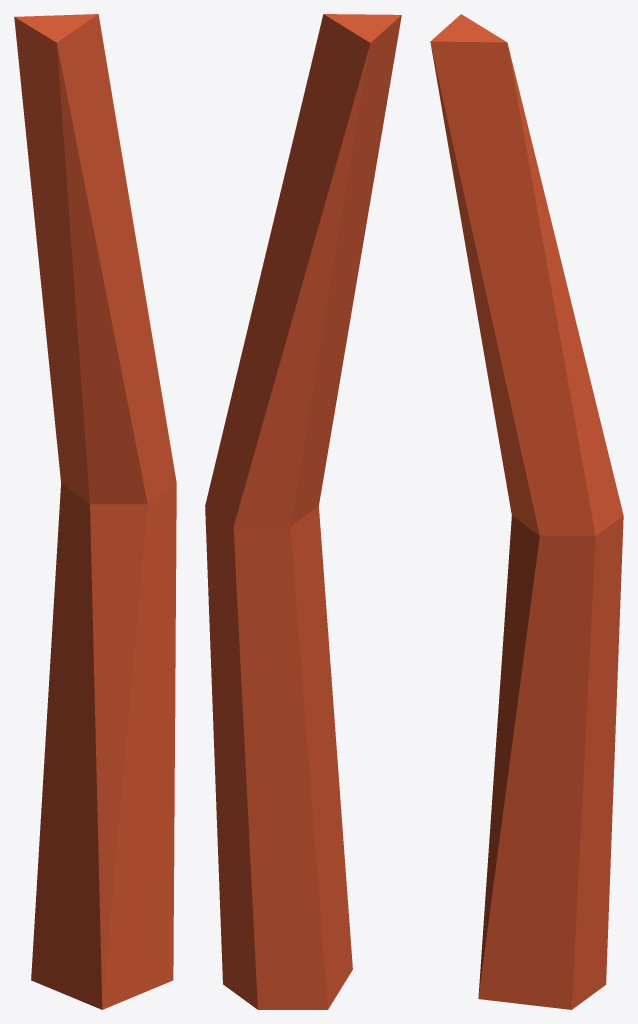
The model's file is Mahogany Cut.fbx.
3 renders of one model, left to right at view 1: azimuth 30°, elevation 25°; view 2: azimuth 150°, elevation 25°; view 3: azimuth 330°, elevation 25°, orthographic. The views are drawn at different scales.
Visible parts, largest first — view 1: Mahogany; view 2: Mahogany; view 3: Mahogany.
Boxes of the visible parts, box(x1,y1,x2,y2) form: Mahogany: box(14, 14, 176, 1009); Mahogany: box(205, 14, 401, 1009); Mahogany: box(430, 14, 623, 1009).
Bounding box in the file's own units: 360 × 285 × 2238.
